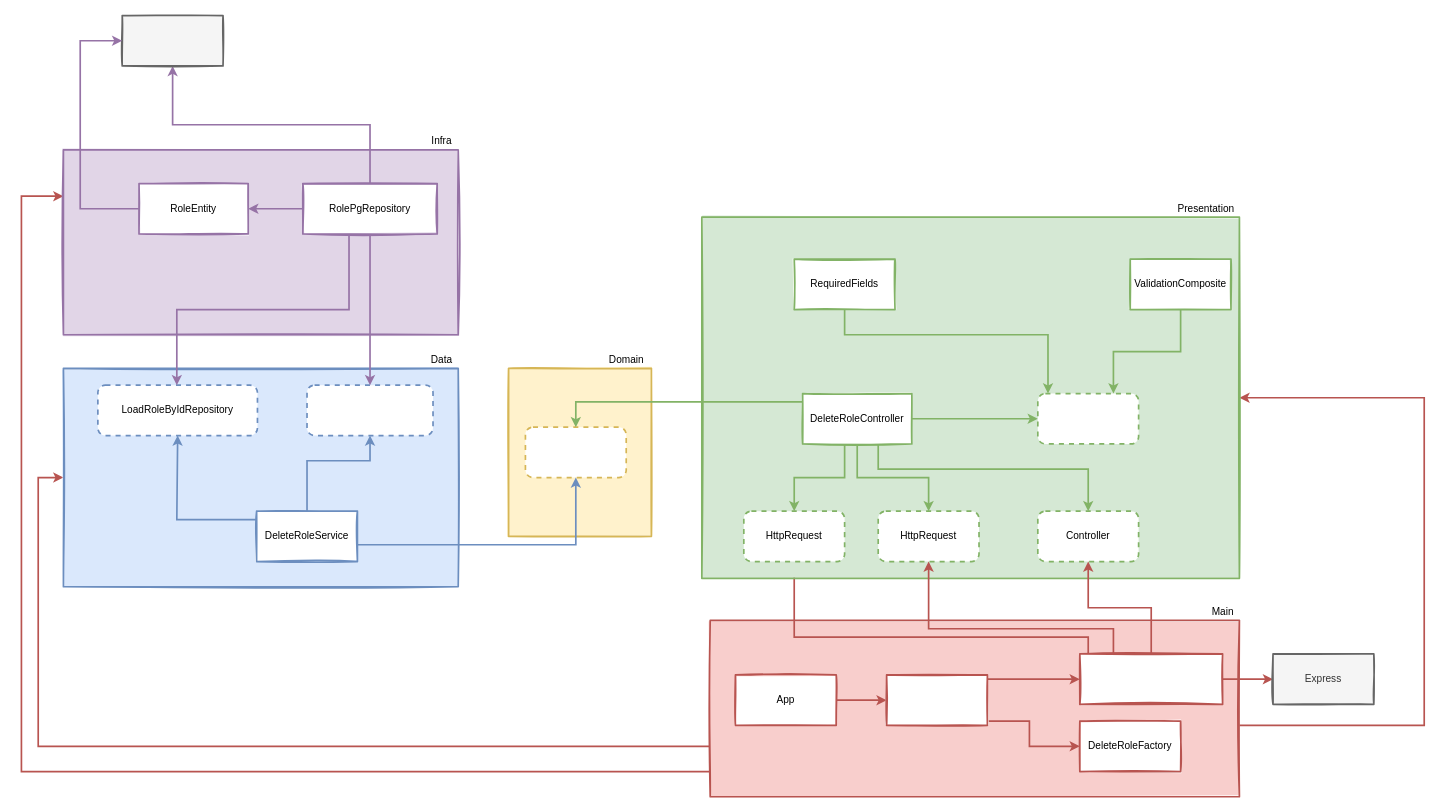
Image size: 1446x811. Some labels were removed from this diagram. Here are the shapes that lost their labels. From the top down, the centre of each, then its label:
At (x=172, y=40): "TypeOrm".
At (x=369, y=410): "DeleteRoleRepository".
At (x=1088, y=418): "Validation".
At (x=575, y=452): "DeleteRole".
At (x=1151, y=679): "ExpressRouterAdapter".
At (x=936, y=700): "DeleteRoleRouter".
